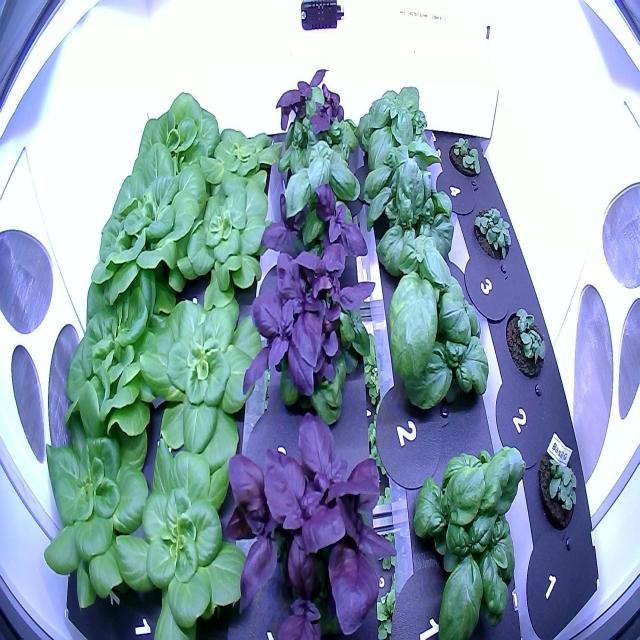germination: (534, 438, 582, 543), (502, 295, 552, 389), (446, 128, 486, 185)
young: (108, 430, 259, 639), (53, 252, 193, 459), (36, 396, 158, 620), (131, 280, 268, 477), (85, 134, 223, 316), (165, 166, 278, 305), (122, 85, 231, 215), (198, 114, 284, 212)
